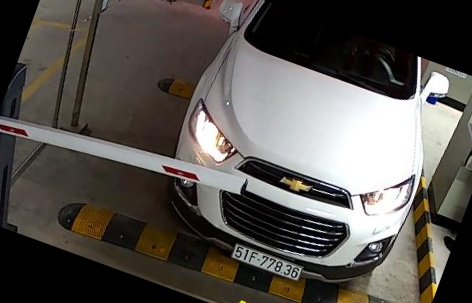plate: (227, 237, 315, 288)
